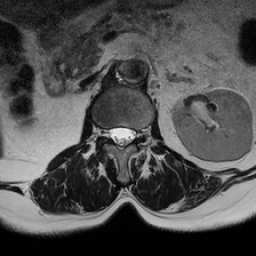CCS_normal: (116, 117, 125, 156)
LFS_stenosis: (136, 120, 144, 147)
LLS_normal: (125, 117, 136, 149)
RFS_normal: (100, 117, 108, 144)
RLS_normal: (108, 118, 116, 149)
